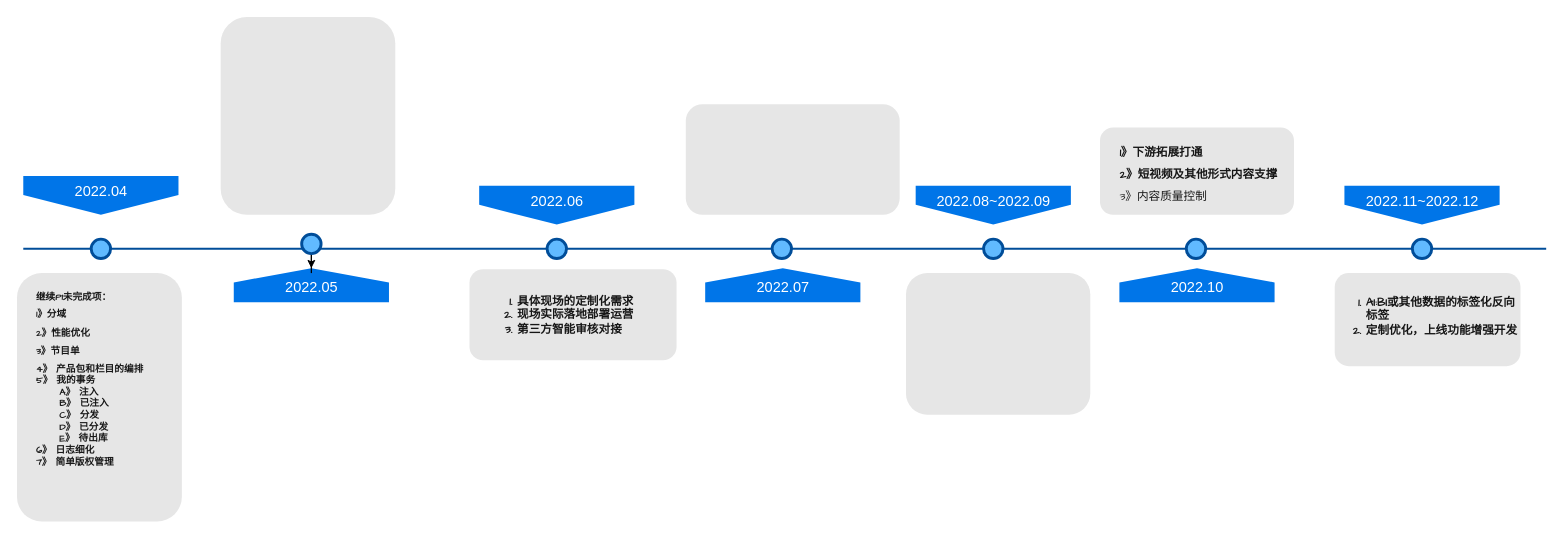
Some shapes in this 1564 by 537 pixel diagram are drawn without their labels. Each missing label, with the centre of its shape:
"标签树管理 人物的AI识别作品关联度 一键下线 追踪解决现场运营问题，筹划新的现场部署 新现场定制化需求" belongs at point (792, 159).
"注入工单管控 分发工单管控 排重管理 统计报表 生命链完善 现场数据迁移方案、脚本及模拟" belongs at point (307, 115).
"监管对接 对外数据服务 M1\M2、BTVAdapter对接移植适配 现场落地部署" belongs at point (997, 343).
